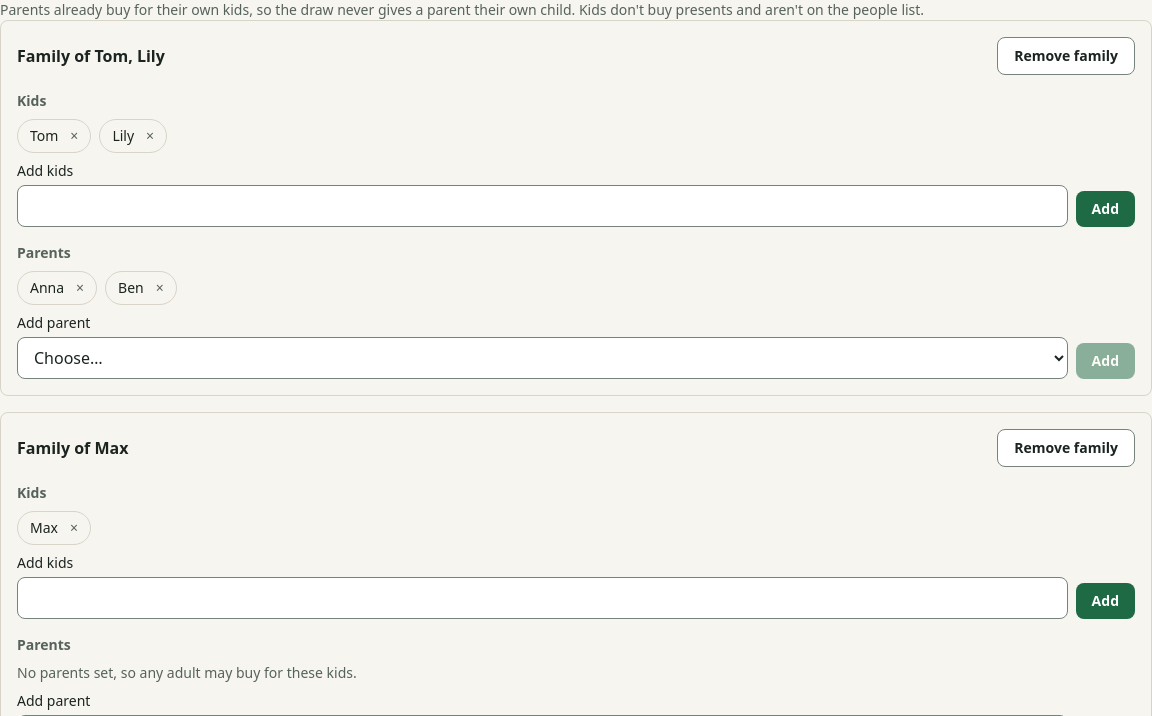
Scenario: FamilyList › removes a family, and a family whose last child is removed
Click the button with aria-label "Remove Family of Tom, Lily" at (1066, 56), box [997, 37, 1135, 75]
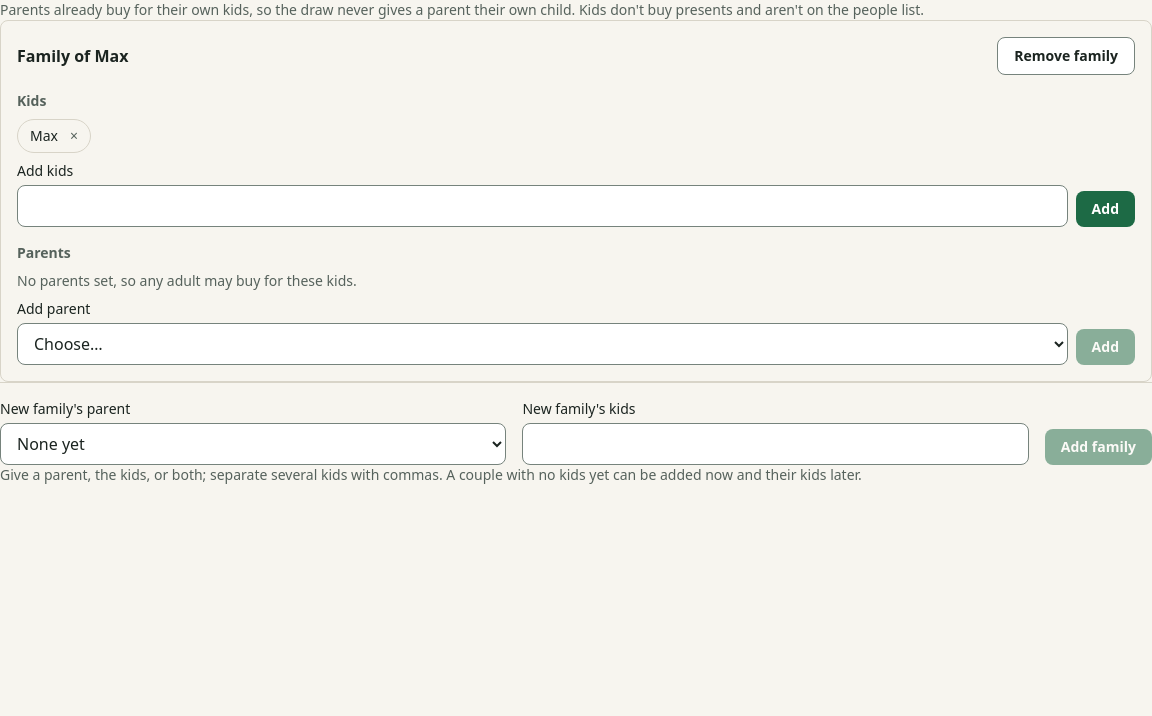
Click the button named "Remove Max" at (74, 136), box [62, 124, 86, 148]
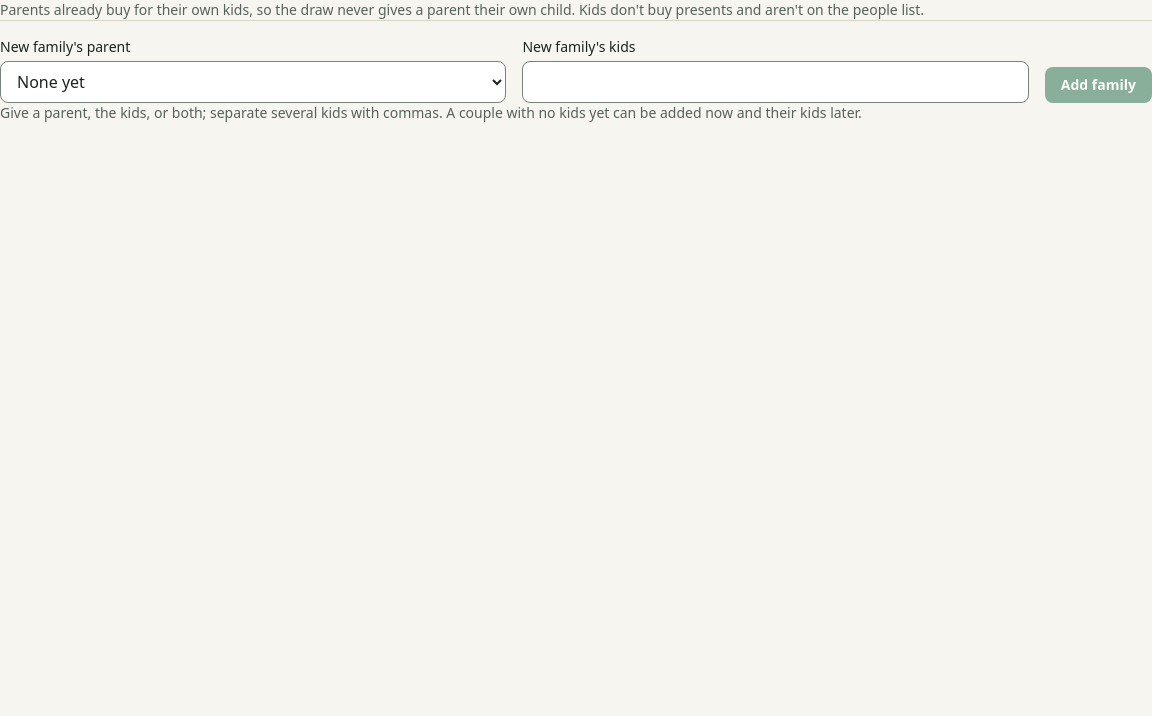
Now the list "Families" is gone
